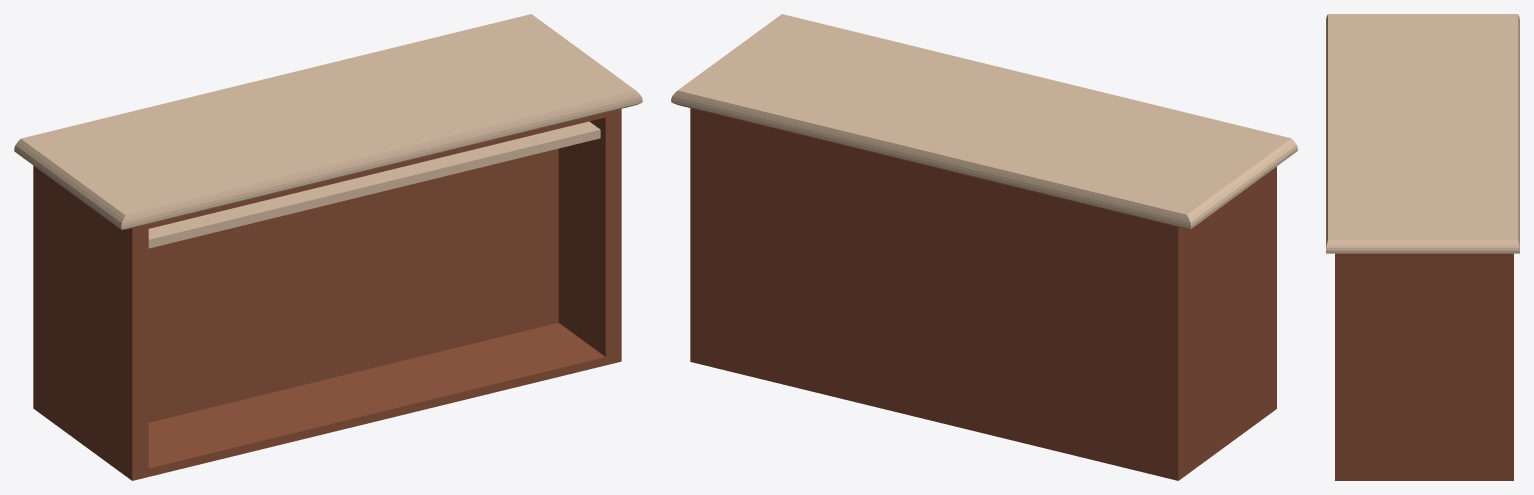
File: MesaModelo.fbx
3 renders of one model, left to right at view 1: azimuth 30°, elevation 25°; view 2: azimuth 150°, elevation 25°; view 3: azimuth 270°, elevation 25°, orthographic. The views are drawn at different scales.
Visible parts, largest first — view 1: Cube.027, Cube.028; view 2: Cube.027; view 3: Cube.027.
Part boxes in pixels (x1,y1,x2,y2): Cube.027: (14,14,642,480); Cube.028: (148,121,600,248); Cube.027: (671,14,1297,480); Cube.027: (1326,14,1519,480).
Size of the model in its own units: 267 by 133 by 94.81.
